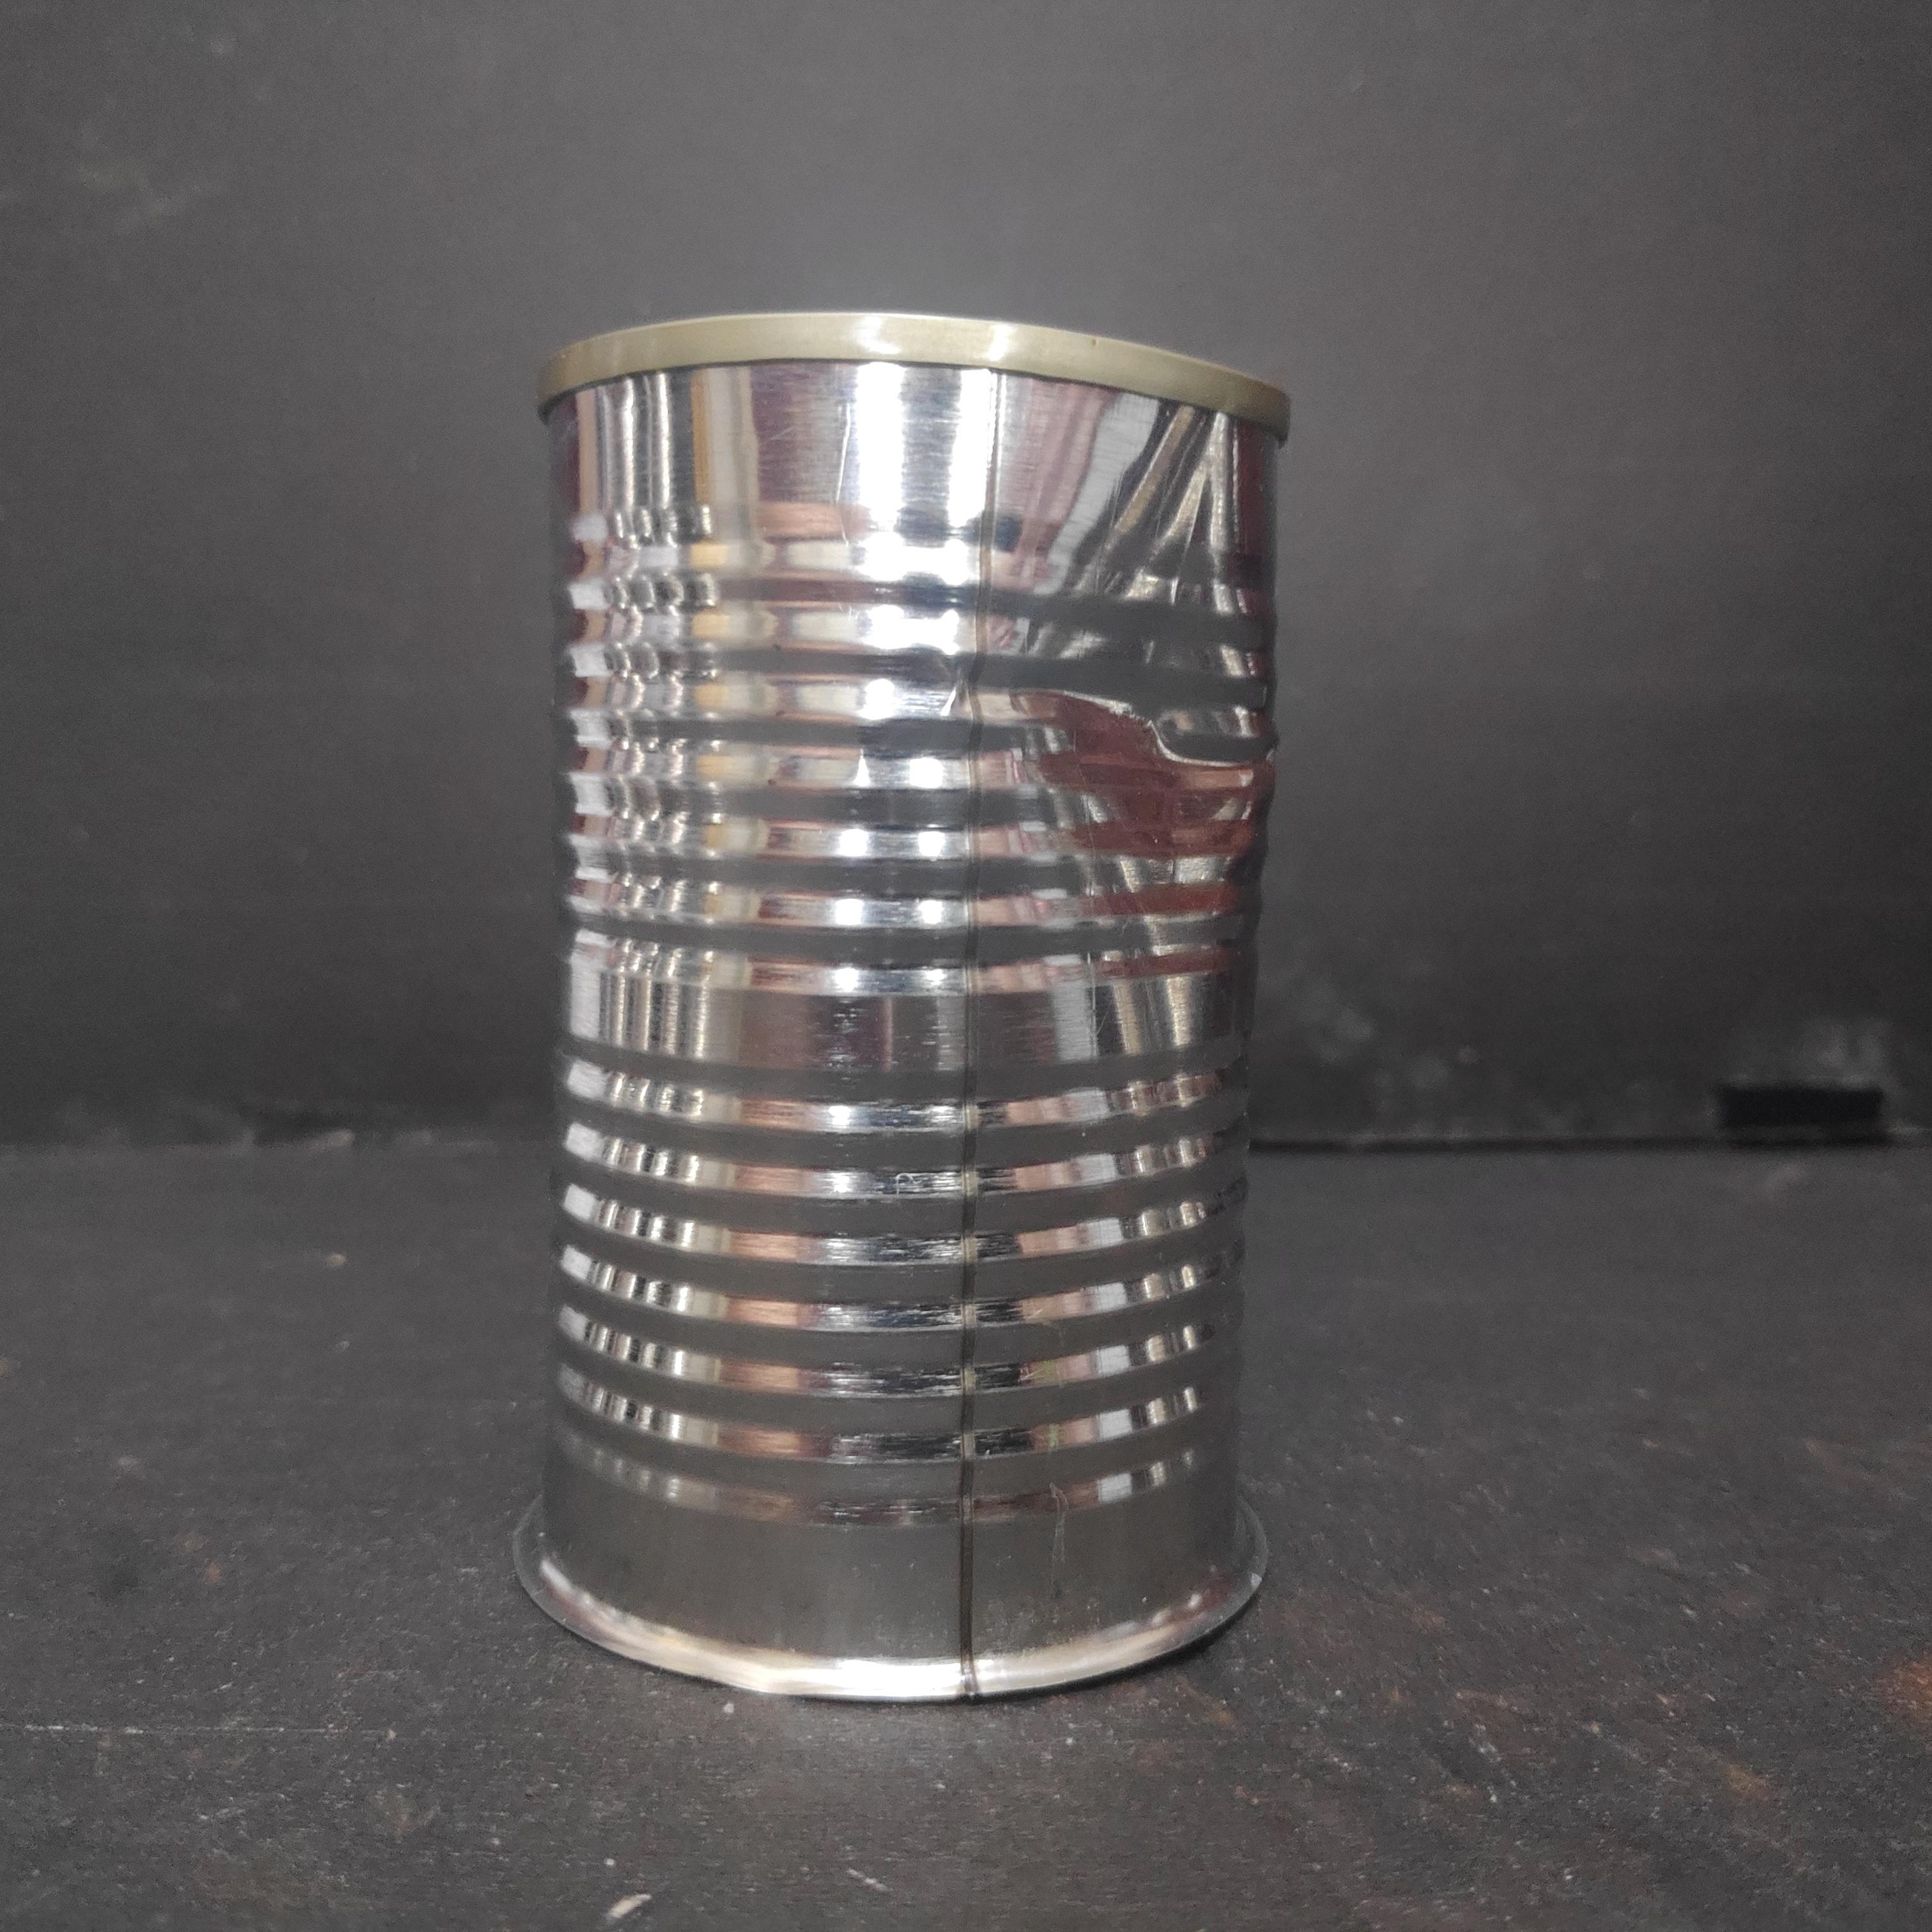Minor Defect: (518, 297, 1309, 1720)
